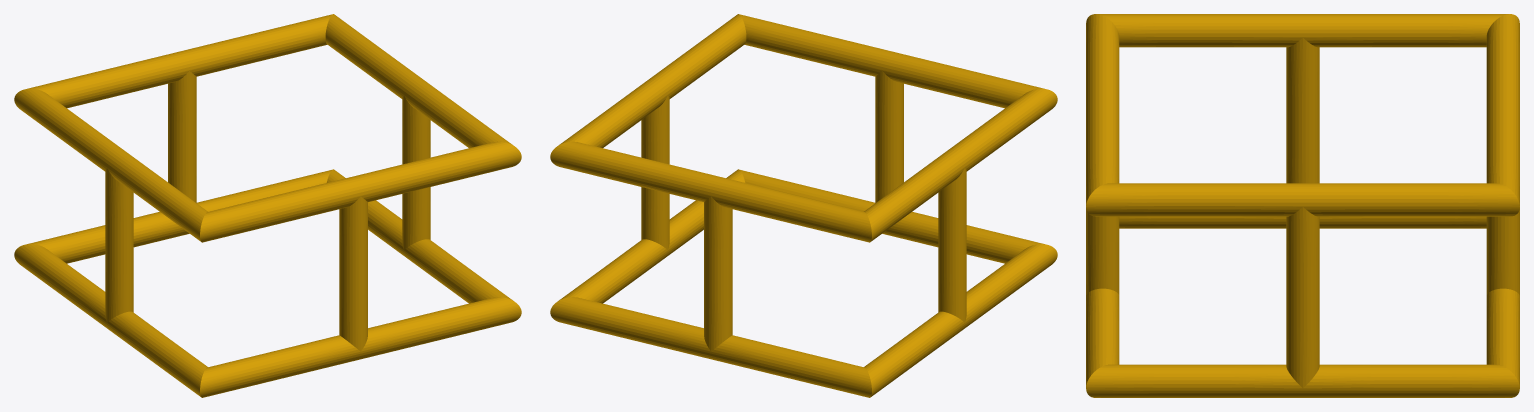
Rendered from PizzaBoxColor.dae.
3 renders of one model, left to right at view 1: azimuth 30°, elevation 25°; view 2: azimuth 150°, elevation 25°; view 3: azimuth 270°, elevation 25°, orthographic. The views are drawn at different scales.
Parts seen in each view (by area): view 1: PIZZABOX; view 2: PIZZABOX; view 3: PIZZABOX.
Boxes of the visible parts, box(x1,y1,x2,y2) form: PIZZABOX: box(14, 14, 521, 397); PIZZABOX: box(550, 14, 1057, 397); PIZZABOX: box(1086, 14, 1519, 397).
Bounding box in the file's own units: 33.02 × 33.02 × 17.78.
